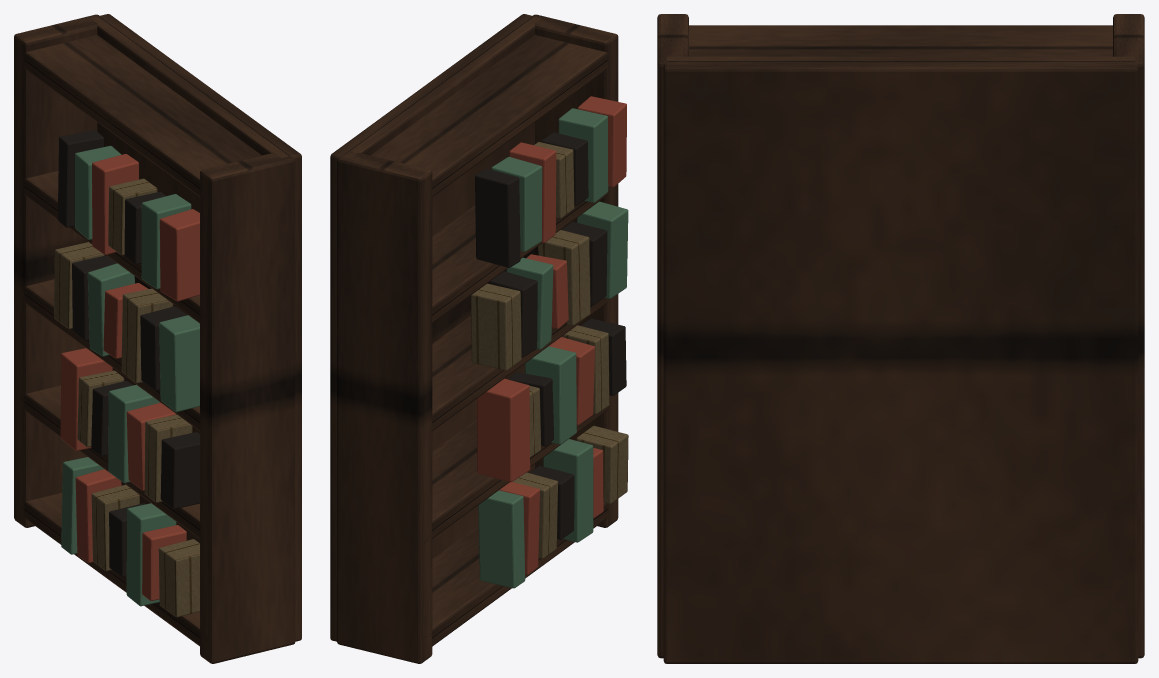
File: packed-bookcase.glb
3 renders of one model, left to right at view 1: azimuth 30°, elevation 25°; view 2: azimuth 150°, elevation 25°; view 3: azimuth 270°, elevation 25°, orthographic. The views are drawn at different scales.
Visible parts, largest first — view 1: SM_lonely_house_bookcase_DarkWood, SM_lonely_house_bookcase_FictionalPosterGreen, SM_lonely_house_bookcase_FictionalPosterRed, SM_lonely_house_bookcase_AgedPaper, SM_lonely_house_bookcase_SootBlack; view 2: SM_lonely_house_bookcase_DarkWood, SM_lonely_house_bookcase_FictionalPosterGreen, SM_lonely_house_bookcase_AgedPaper, SM_lonely_house_bookcase_FictionalPosterRed, SM_lonely_house_bookcase_SootBlack; view 3: SM_lonely_house_bookcase_DarkWood.
Boxes of the visible parts, x1,y1,x2,y2 form: SM_lonely_house_bookcase_DarkWood: (14, 14, 301, 663); SM_lonely_house_bookcase_FictionalPosterGreen: (61, 145, 199, 606); SM_lonely_house_bookcase_FictionalPosterRed: (60, 154, 199, 600); SM_lonely_house_bookcase_AgedPaper: (54, 178, 199, 617); SM_lonely_house_bookcase_SootBlack: (57, 130, 199, 576); SM_lonely_house_bookcase_DarkWood: (330, 14, 618, 663); SM_lonely_house_bookcase_FictionalPosterGreen: (478, 108, 628, 588); SM_lonely_house_bookcase_AgedPaper: (471, 142, 628, 558); SM_lonely_house_bookcase_FictionalPosterRed: (477, 96, 626, 574); SM_lonely_house_bookcase_SootBlack: (475, 132, 626, 539); SM_lonely_house_bookcase_DarkWood: (657, 14, 1144, 663).
Bounding box in the file's own units: 0.5272 × 2.08 × 1.54.
Materials: 5 (2 with a texture image).
